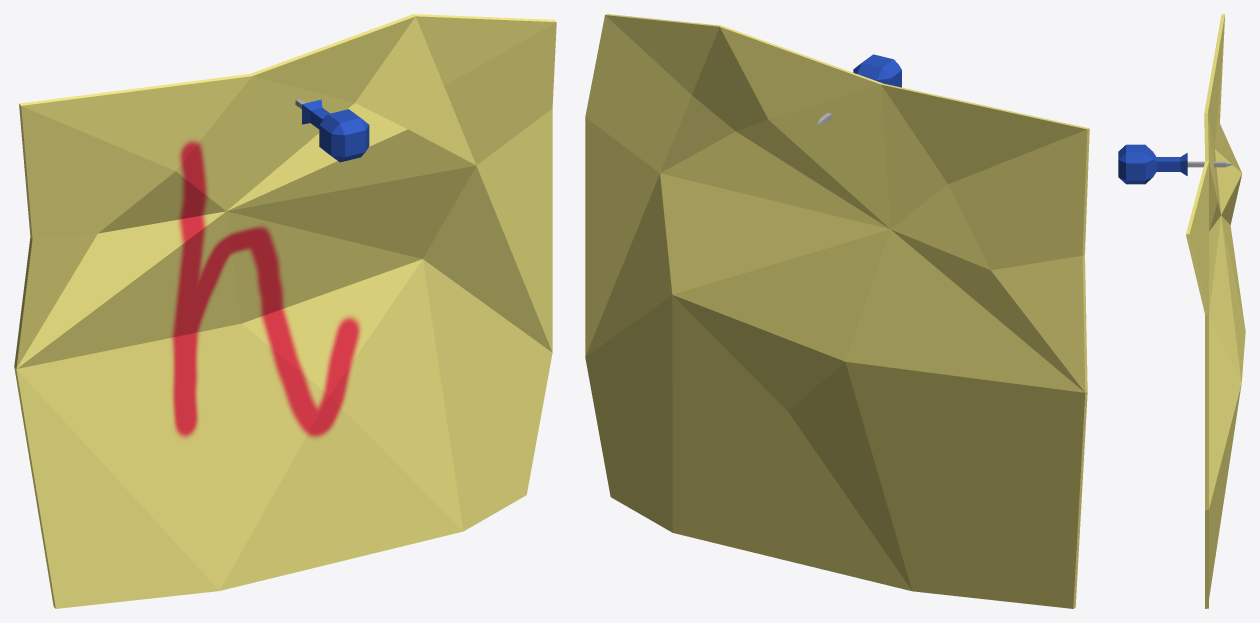
File: Paper Letter H.fbx
3 views of the same model, side by side, from view 1: azimuth 30°, elevation 25°; view 2: azimuth 150°, elevation 25°; view 3: azimuth 270°, elevation 25° (orthographic). The views are drawn at different scales.
Parts seen in each view (by area): view 1: Papier, Punaise; view 2: Papier, Punaise; view 3: Papier, Punaise.
Part boxes in pixels (x1,y1,x2,y2): Papier: (14, 14, 556, 608); Punaise: (295, 99, 369, 162); Papier: (585, 14, 1089, 608); Punaise: (817, 54, 901, 124); Papier: (1186, 14, 1245, 608); Punaise: (1118, 144, 1233, 184).
Size of the model in its own units: 208 by 200 by 54.89.
